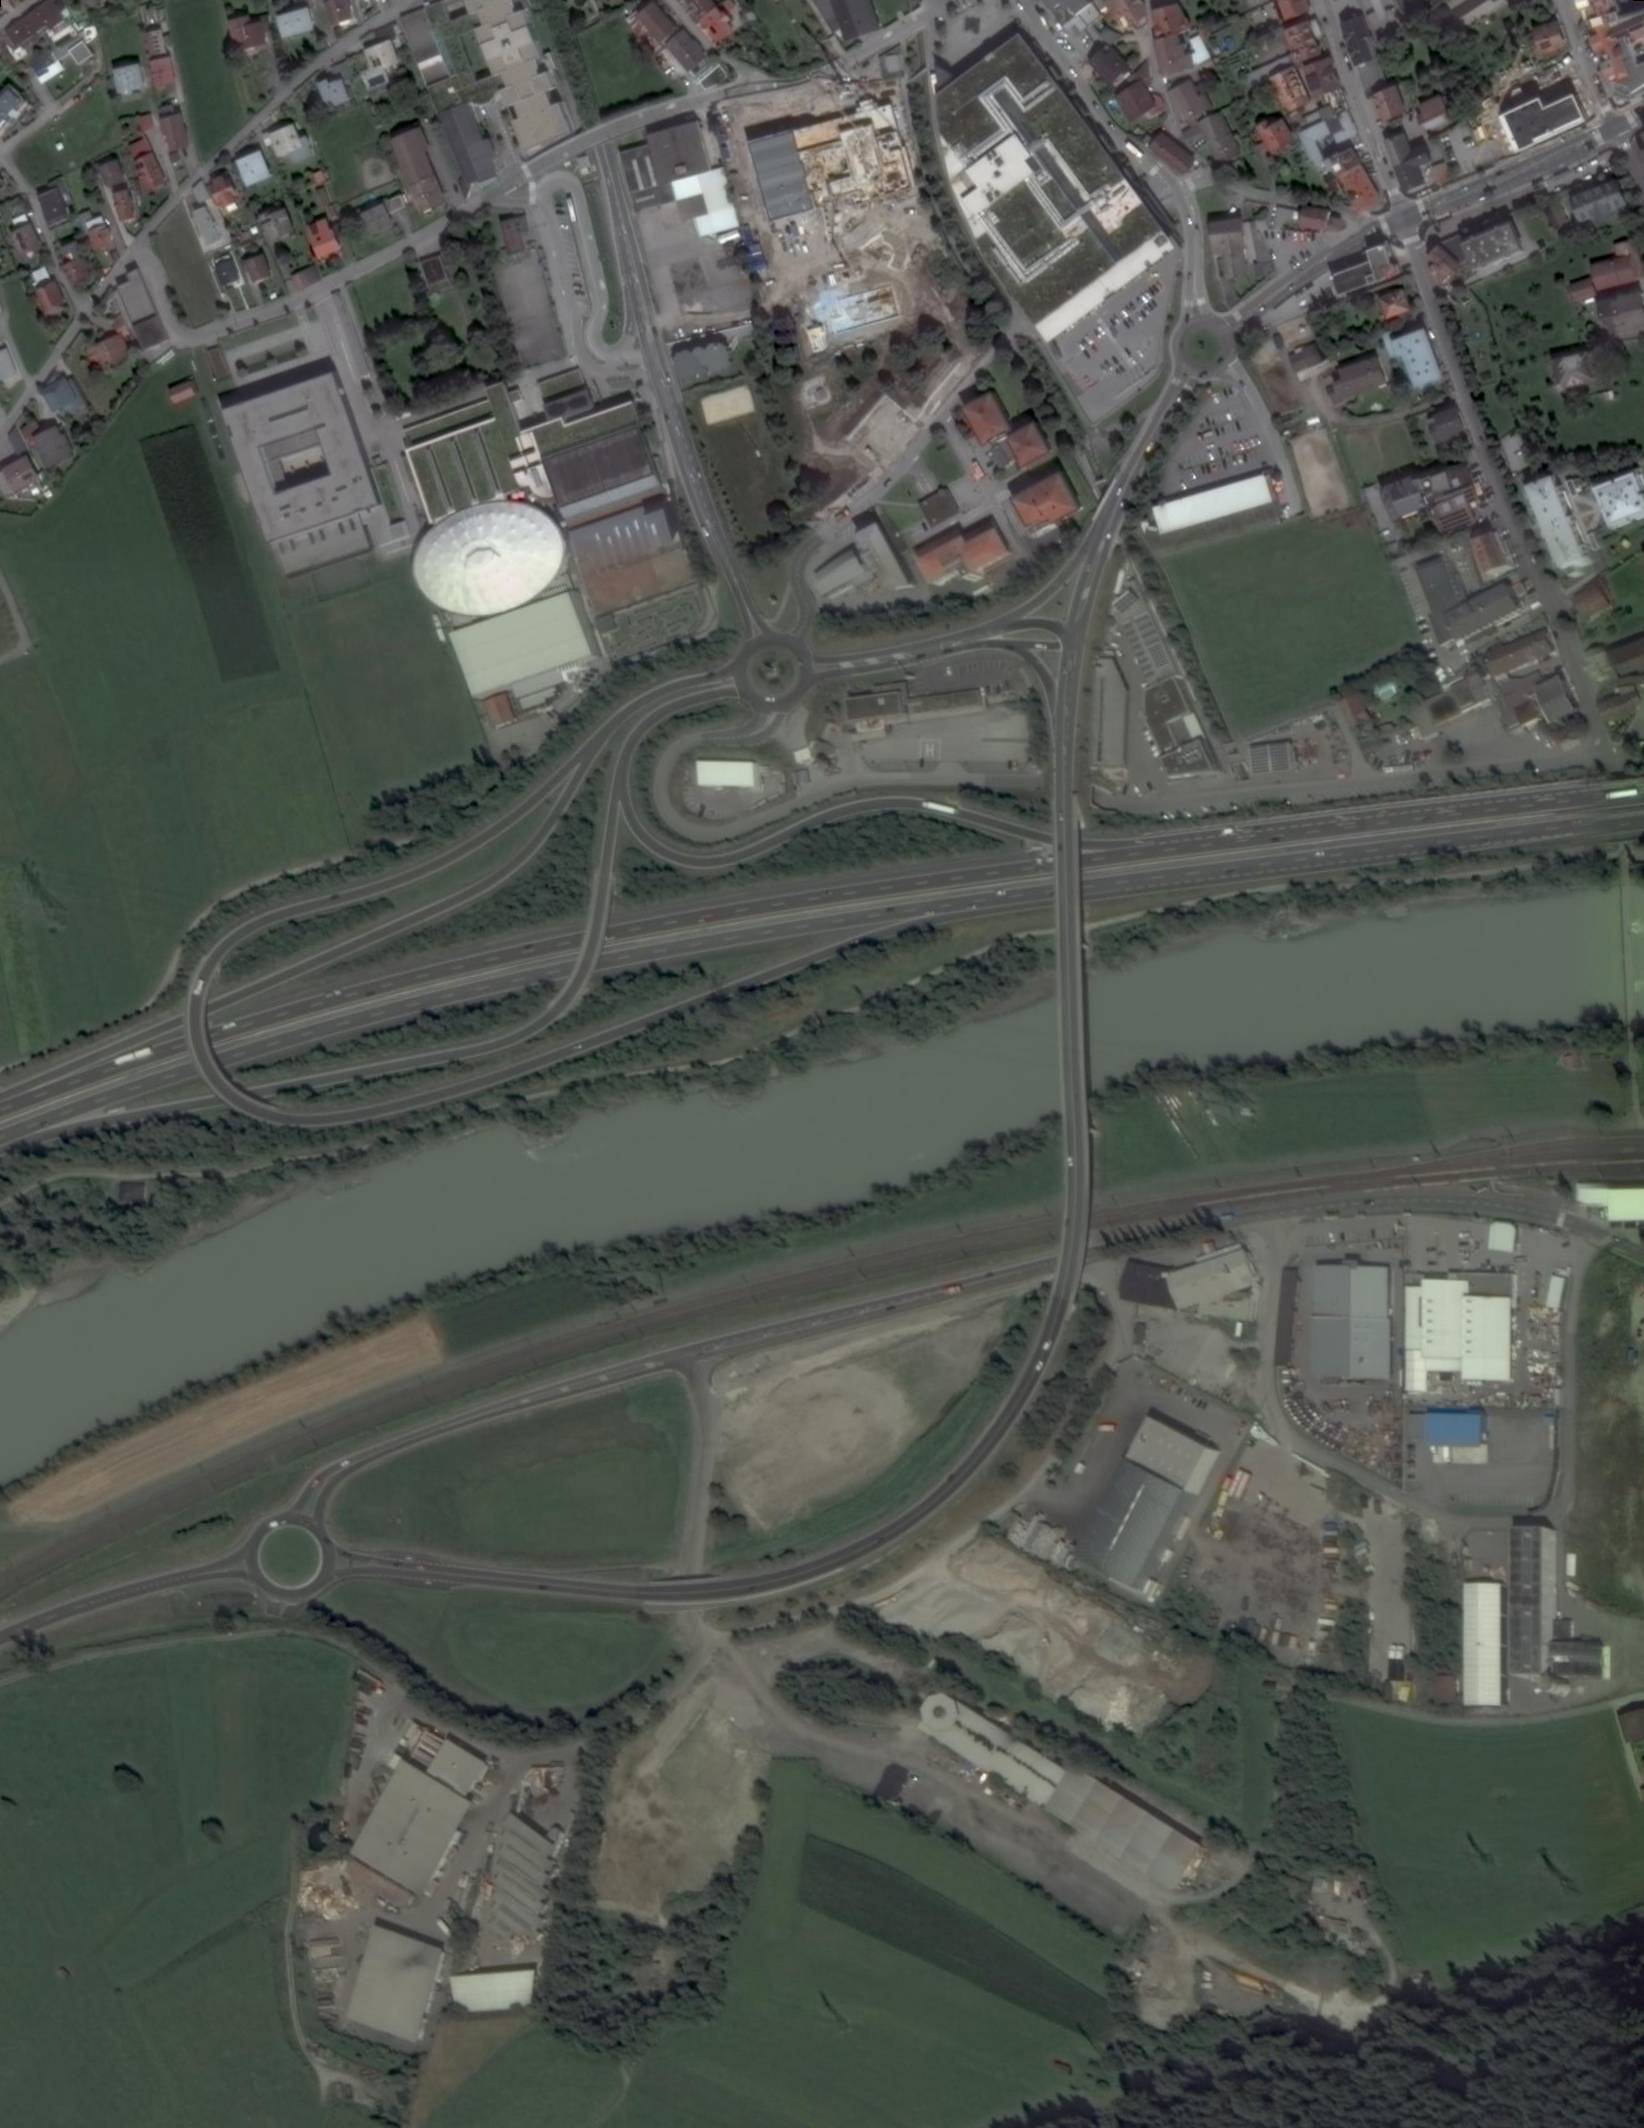bridge: (1059, 972, 1090, 1119)
roundabout: (240, 1511, 335, 1596), (729, 641, 815, 713), (1166, 307, 1242, 385)
